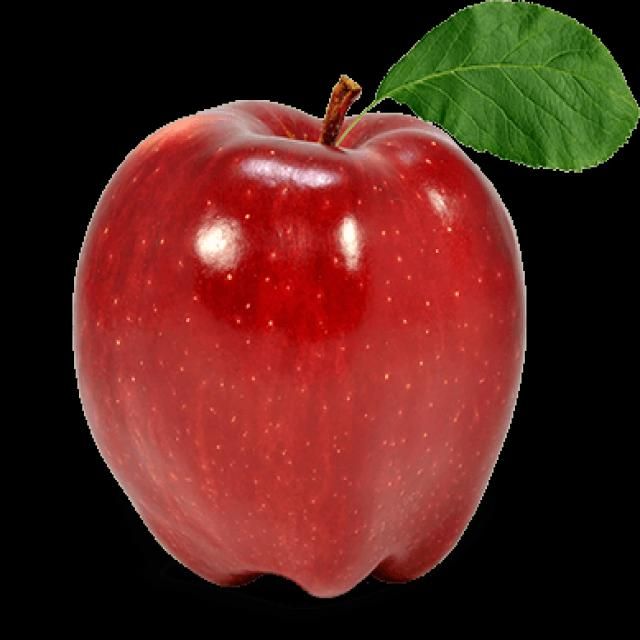apple: (73, 74, 536, 606)
